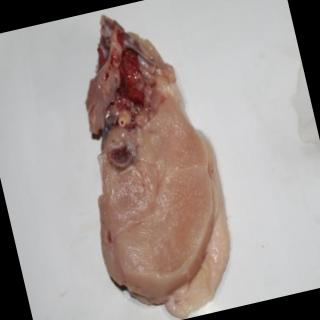Ayam: (51, 1, 247, 320)
